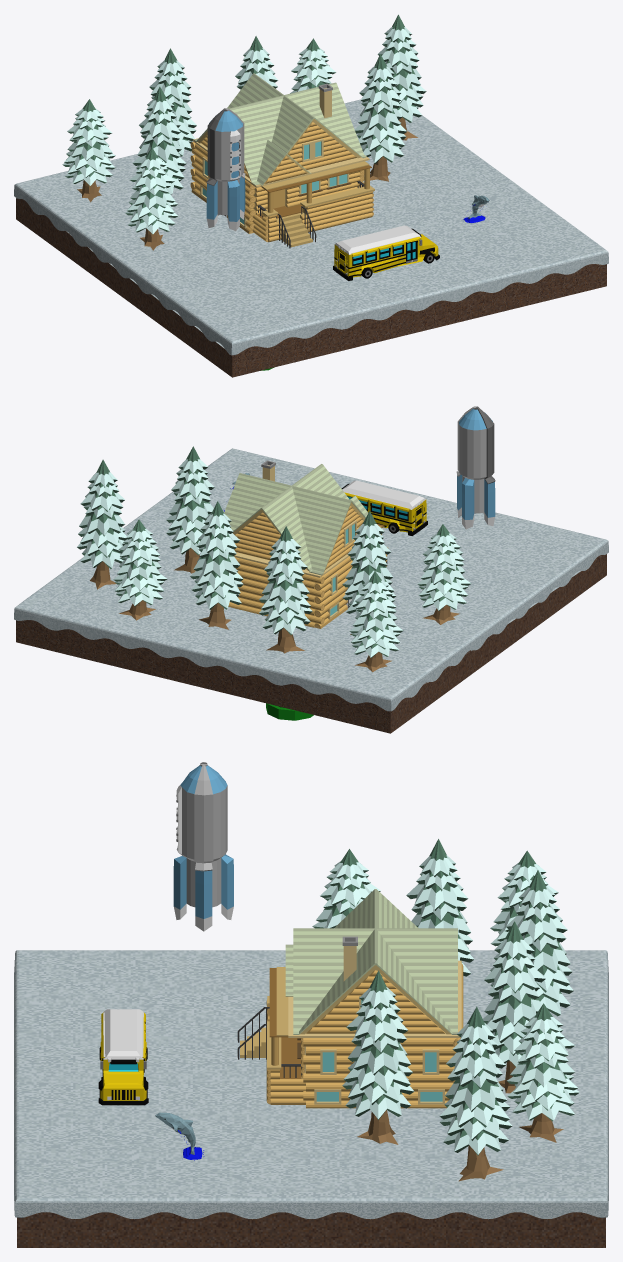
The picture shows the model from 3 angles, top to bottom: view 1: azimuth 30°, elevation 25°; view 2: azimuth 150°, elevation 25°; view 3: azimuth 270°, elevation 25°; orthographic projection. The views are drawn at different scales.
Parts seen in each view (by area): view 1: Cube.003, Cube.1516, OBJRANDOM_ROCKETSHIP, VEHICLES_SCHOOL_BUS; view 2: Cube.003, Cube.1516, OBJRANDOM_ROCKETSHIP, VEHICLES_SCHOOL_BUS, UNDERGROUND_PIPES; view 3: Cube.003, Cube.1516, OBJRANDOM_ROCKETSHIP, VEHICLES_SCHOOL_BUS, ANIMAL_DELFIN.
Part boxes in pixels (<box>): Cube.003: <box>14,14,608,377</box>; Cube.1516: <box>190,73,374,248</box>; OBJRANDOM_ROCKETSHIP: <box>206,108,245,231</box>; VEHICLES_SCHOOL_BUS: <box>333,225,439,280</box>; Cube.003: <box>14,446,608,733</box>; Cube.1516: <box>224,460,388,628</box>; OBJRANDOM_ROCKETSHIP: <box>456,406,495,529</box>; VEHICLES_SCHOOL_BUS: <box>341,480,427,535</box>; UNDERGROUND_PIPES: <box>266,703,313,720</box>; Cube.003: <box>14,839,608,1247</box>; Cube.1516: <box>237,889,463,1108</box>; OBJRANDOM_ROCKETSHIP: <box>173,762,233,931</box>; VEHICLES_SCHOOL_BUS: <box>98,1009,148,1105</box>; ANIMAL_DELFIN: <box>155,1112,204,1160</box>.
Bounding box in the file's own units: 4040 × 2735 × 4040.
Materials: 38 (4 with a texture image).
